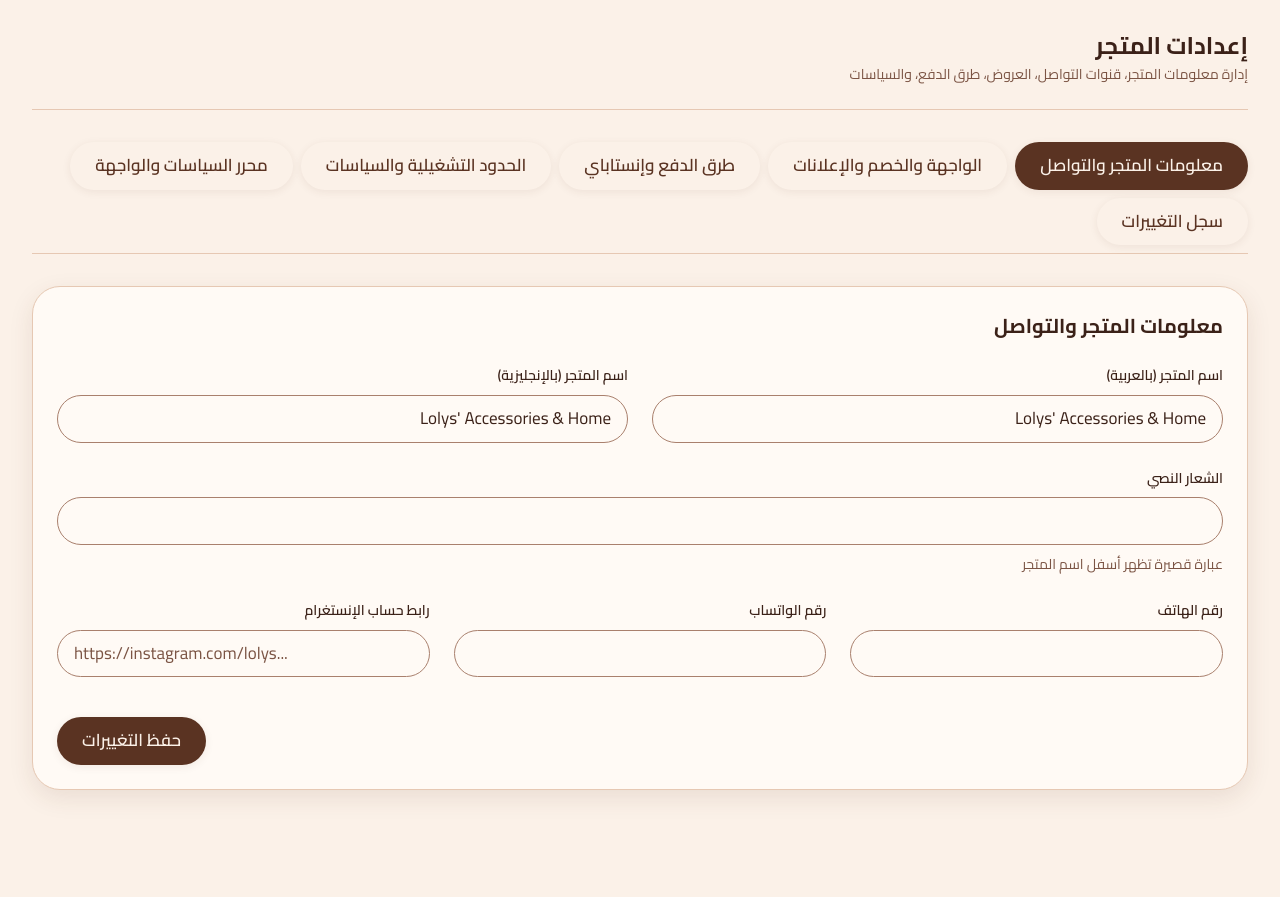
Test: T-5.09: Admin Settings UI and step-up authorization › allows switching to the policy and storefront content editor tab (T-5.15)
Expected: the heading "إعدادات المتجر" is shown, left=1096, top=23, right=1248, bottom=68
Click the button "محرر السياسات والواجهة". click: (182,166)
box: left=70, top=142, right=293, bottom=190
(page scrolled)
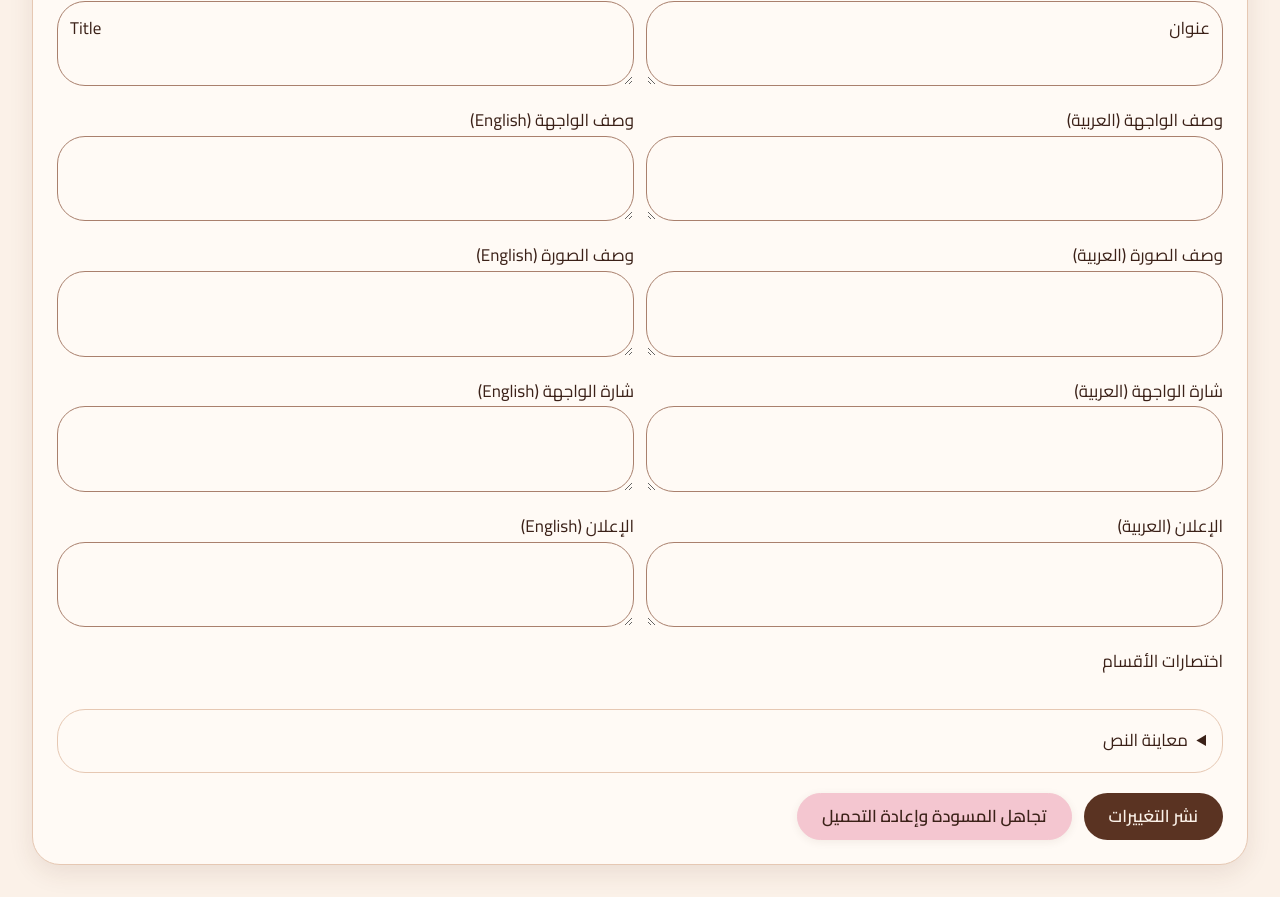
Expected: the button "نشر التغييرات" is shown, left=1084, top=793, right=1223, bottom=840
